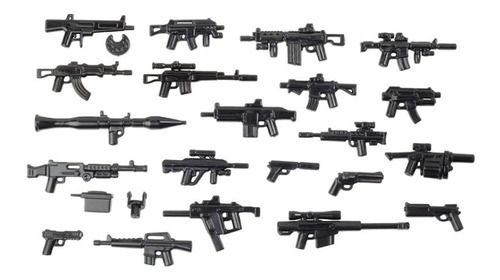weapon: (237, 23, 344, 69), (21, 158, 153, 192), (358, 29, 458, 72), (34, 61, 134, 101), (161, 149, 254, 191), (276, 76, 356, 111), (381, 85, 446, 128), (402, 200, 468, 234), (266, 157, 323, 191), (330, 170, 386, 198), (38, 229, 86, 256)
